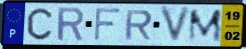C: (26, 7, 54, 41)
F: (92, 7, 123, 42)
M: (187, 8, 224, 43)
R: (56, 6, 86, 42), (123, 9, 154, 41)
V: (158, 6, 193, 46)
